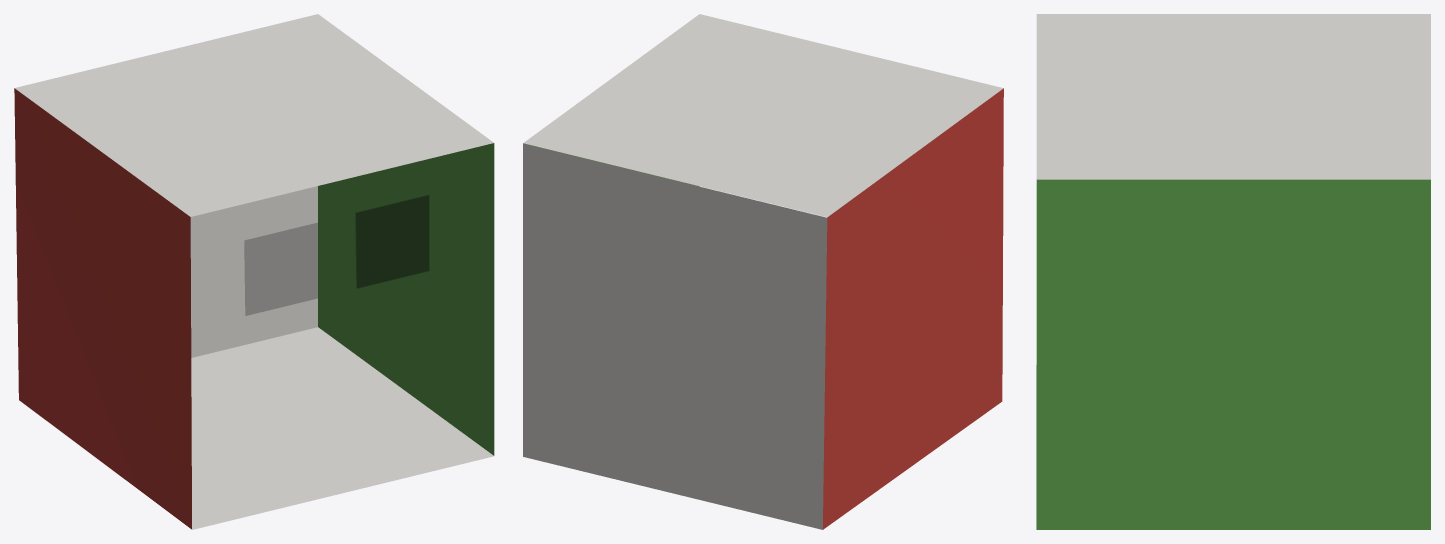
File: another_glass_cornell.glb
3 views of the same model, side by side, from view 1: azimuth 30°, elevation 25°; view 2: azimuth 150°, elevation 25°; view 3: azimuth 270°, elevation 25° (orthographic). The views are drawn at different scales.
Parts seen in each view (by area): view 1: Object_5, Object_3, Object_7, Object_4, Object_2, Object_2.002, Object_2.001, Object_2.003; view 2: Object_2, Object_5, Object_3; view 3: Object_7, Object_3.
Boxes of the visible parts, x1,y1,x2,y2 form: Object_5: [14, 88, 191, 529]; Object_3: [15, 14, 493, 216]; Object_7: [318, 143, 494, 455]; Object_4: [191, 327, 493, 529]; Object_2: [190, 186, 317, 357]; Object_2.002: [356, 196, 429, 288]; Object_2.001: [244, 223, 317, 315]; Object_2.003: [355, 195, 428, 287]; Object_2: [523, 143, 827, 529]; Object_5: [823, 88, 1003, 529]; Object_3: [523, 14, 1003, 217]; Object_7: [1036, 179, 1430, 529]; Object_3: [1036, 14, 1430, 179].
Size of the model in its own units: 2.02 by 1.99 by 2.05.
